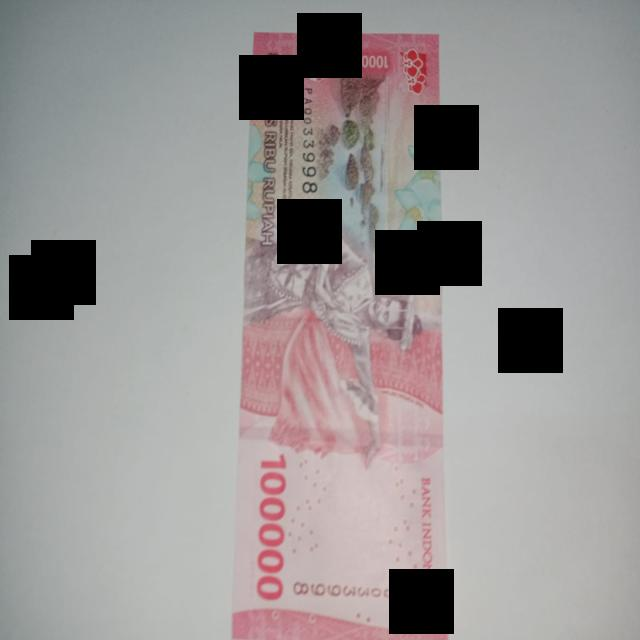seratusribu rupiah: (232, 33, 448, 638)
